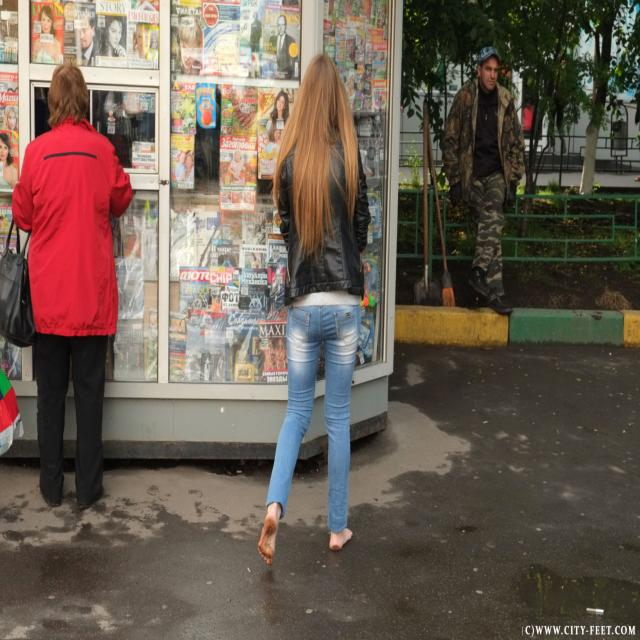Barefoots: (258, 513, 277, 565), (329, 528, 353, 551)
